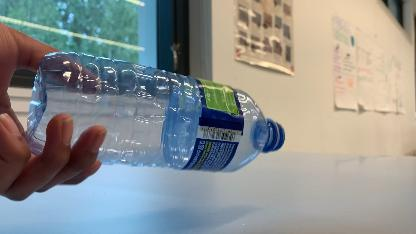Plastic Bottle: (27, 52, 285, 172)
